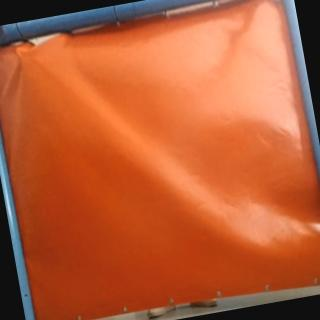Hit-hRxx: (10, 43, 28, 60)
